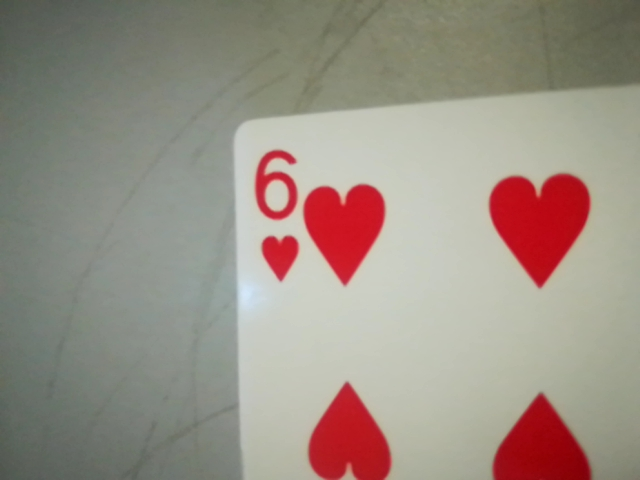hx 6: (244, 136, 304, 293)
